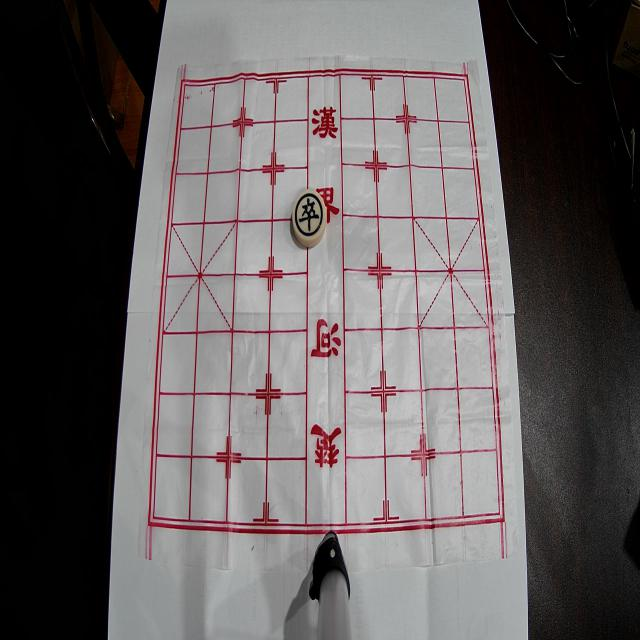black-soldier: (292, 190, 326, 248)
